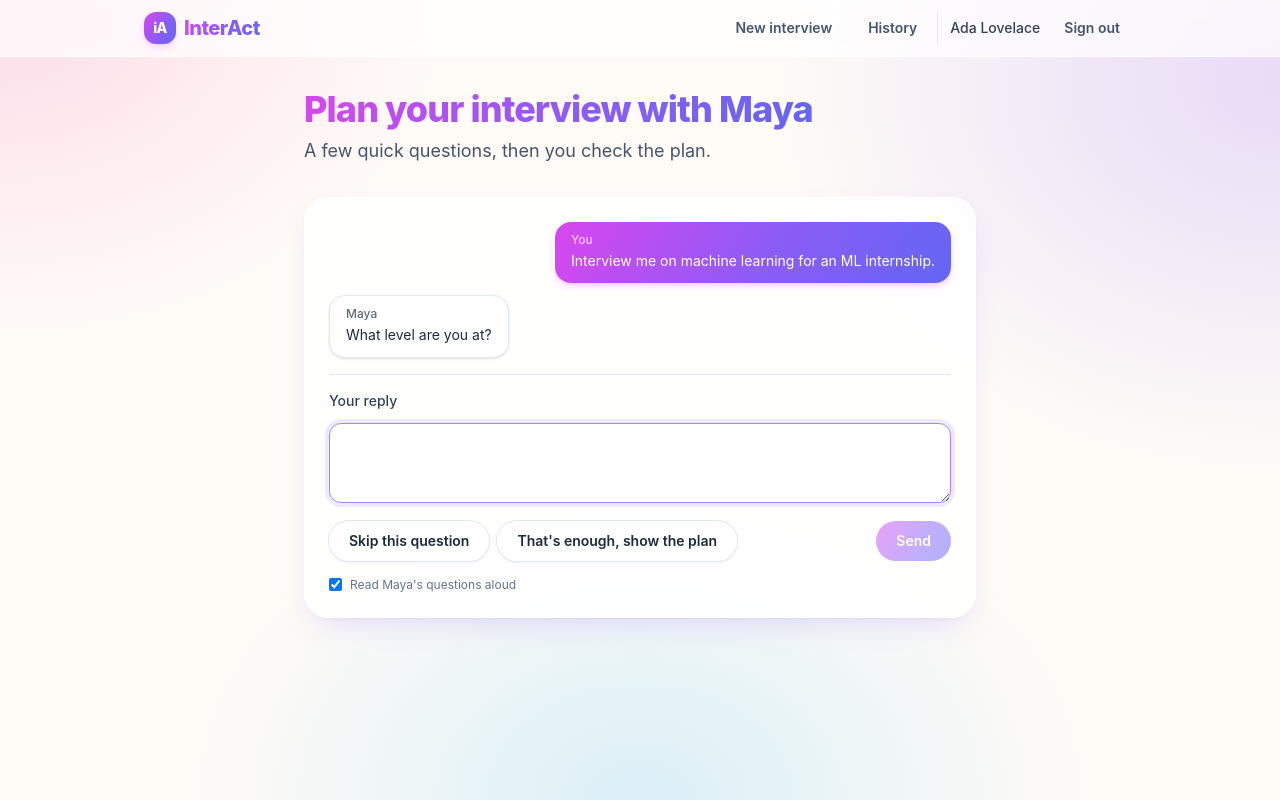
it: the clarification chat › sends a reply
The width and height of the screenshot is (1280, 800).
Type "Beginner." into the text box labelled "Your reply". click: (640, 462)
box: top-left (329, 422), bottom-right (951, 502)
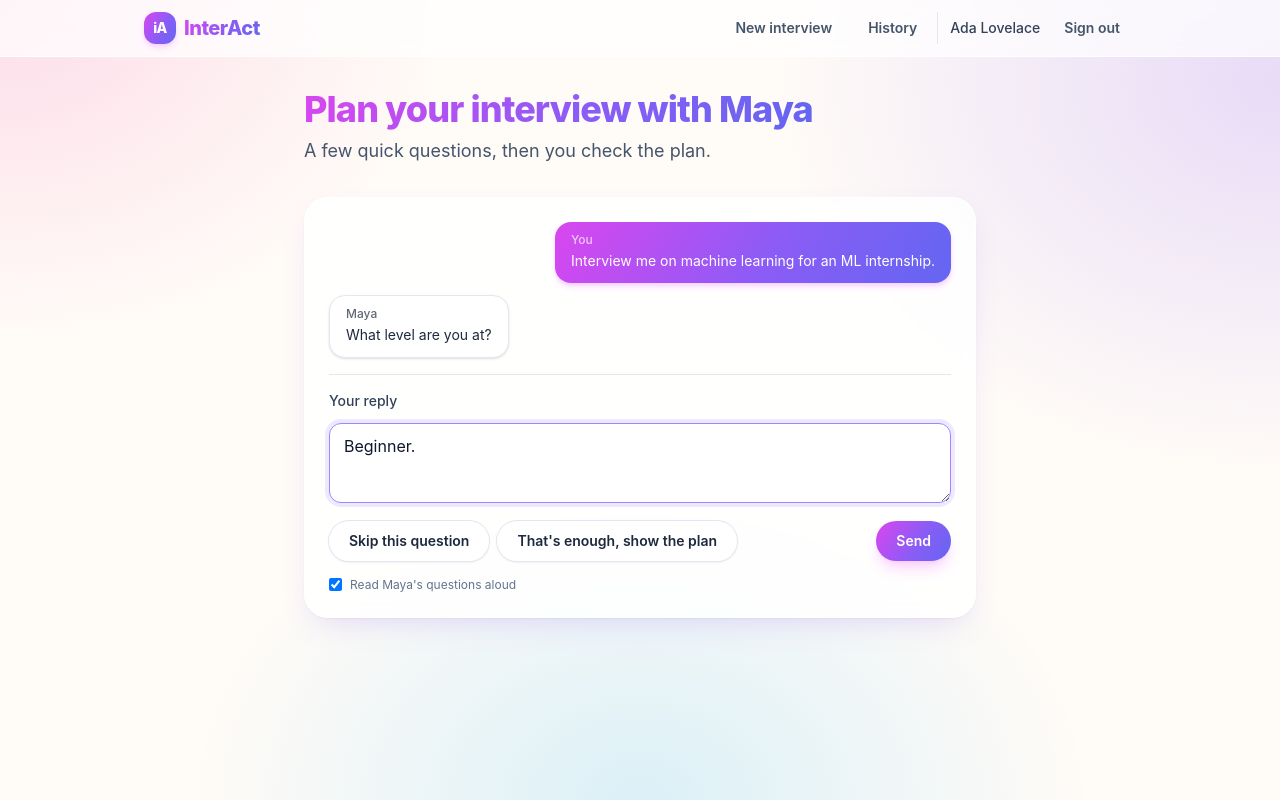
Click the button "Send". click: (914, 540)
box: top-left (876, 520), bottom-right (951, 560)
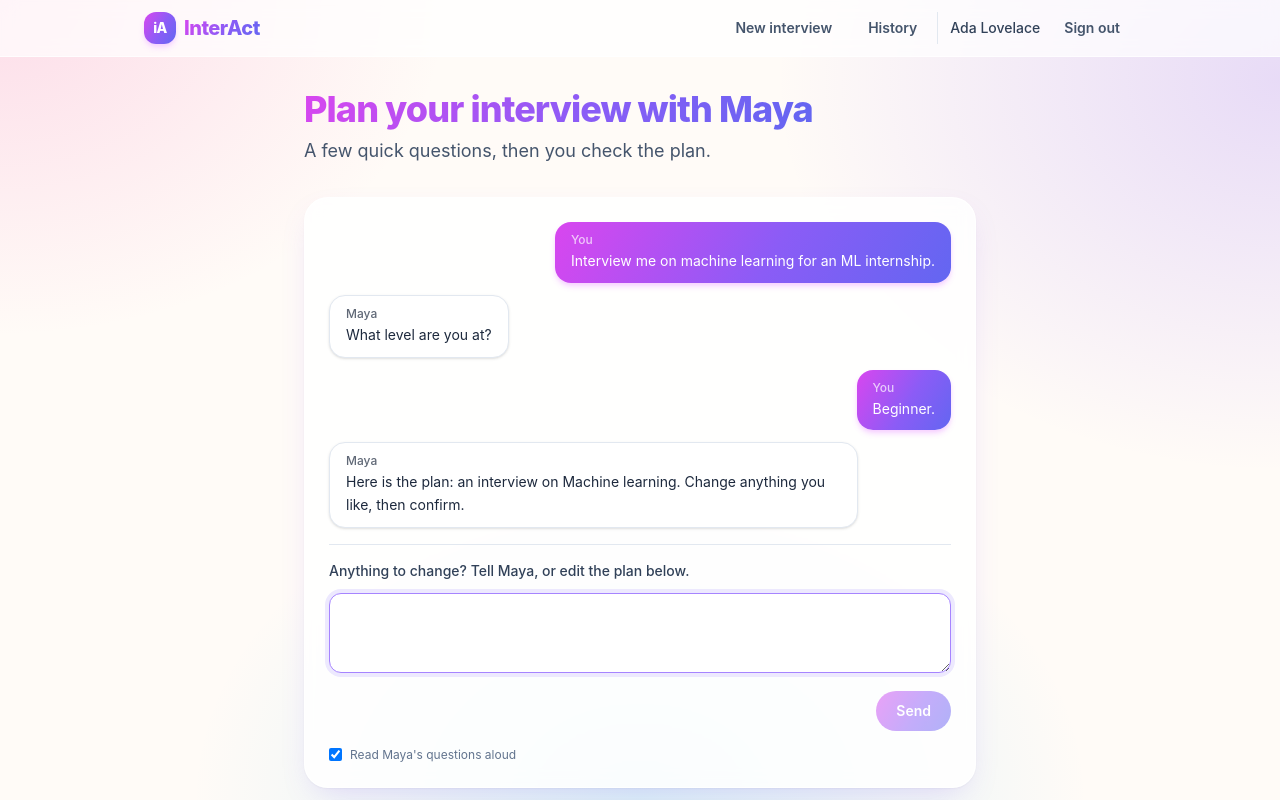
Expected: the text "Here is the plan: an interview on Machine learning. Change anything you like, then confirm." is shown, top-left (346, 473), bottom-right (825, 513)
